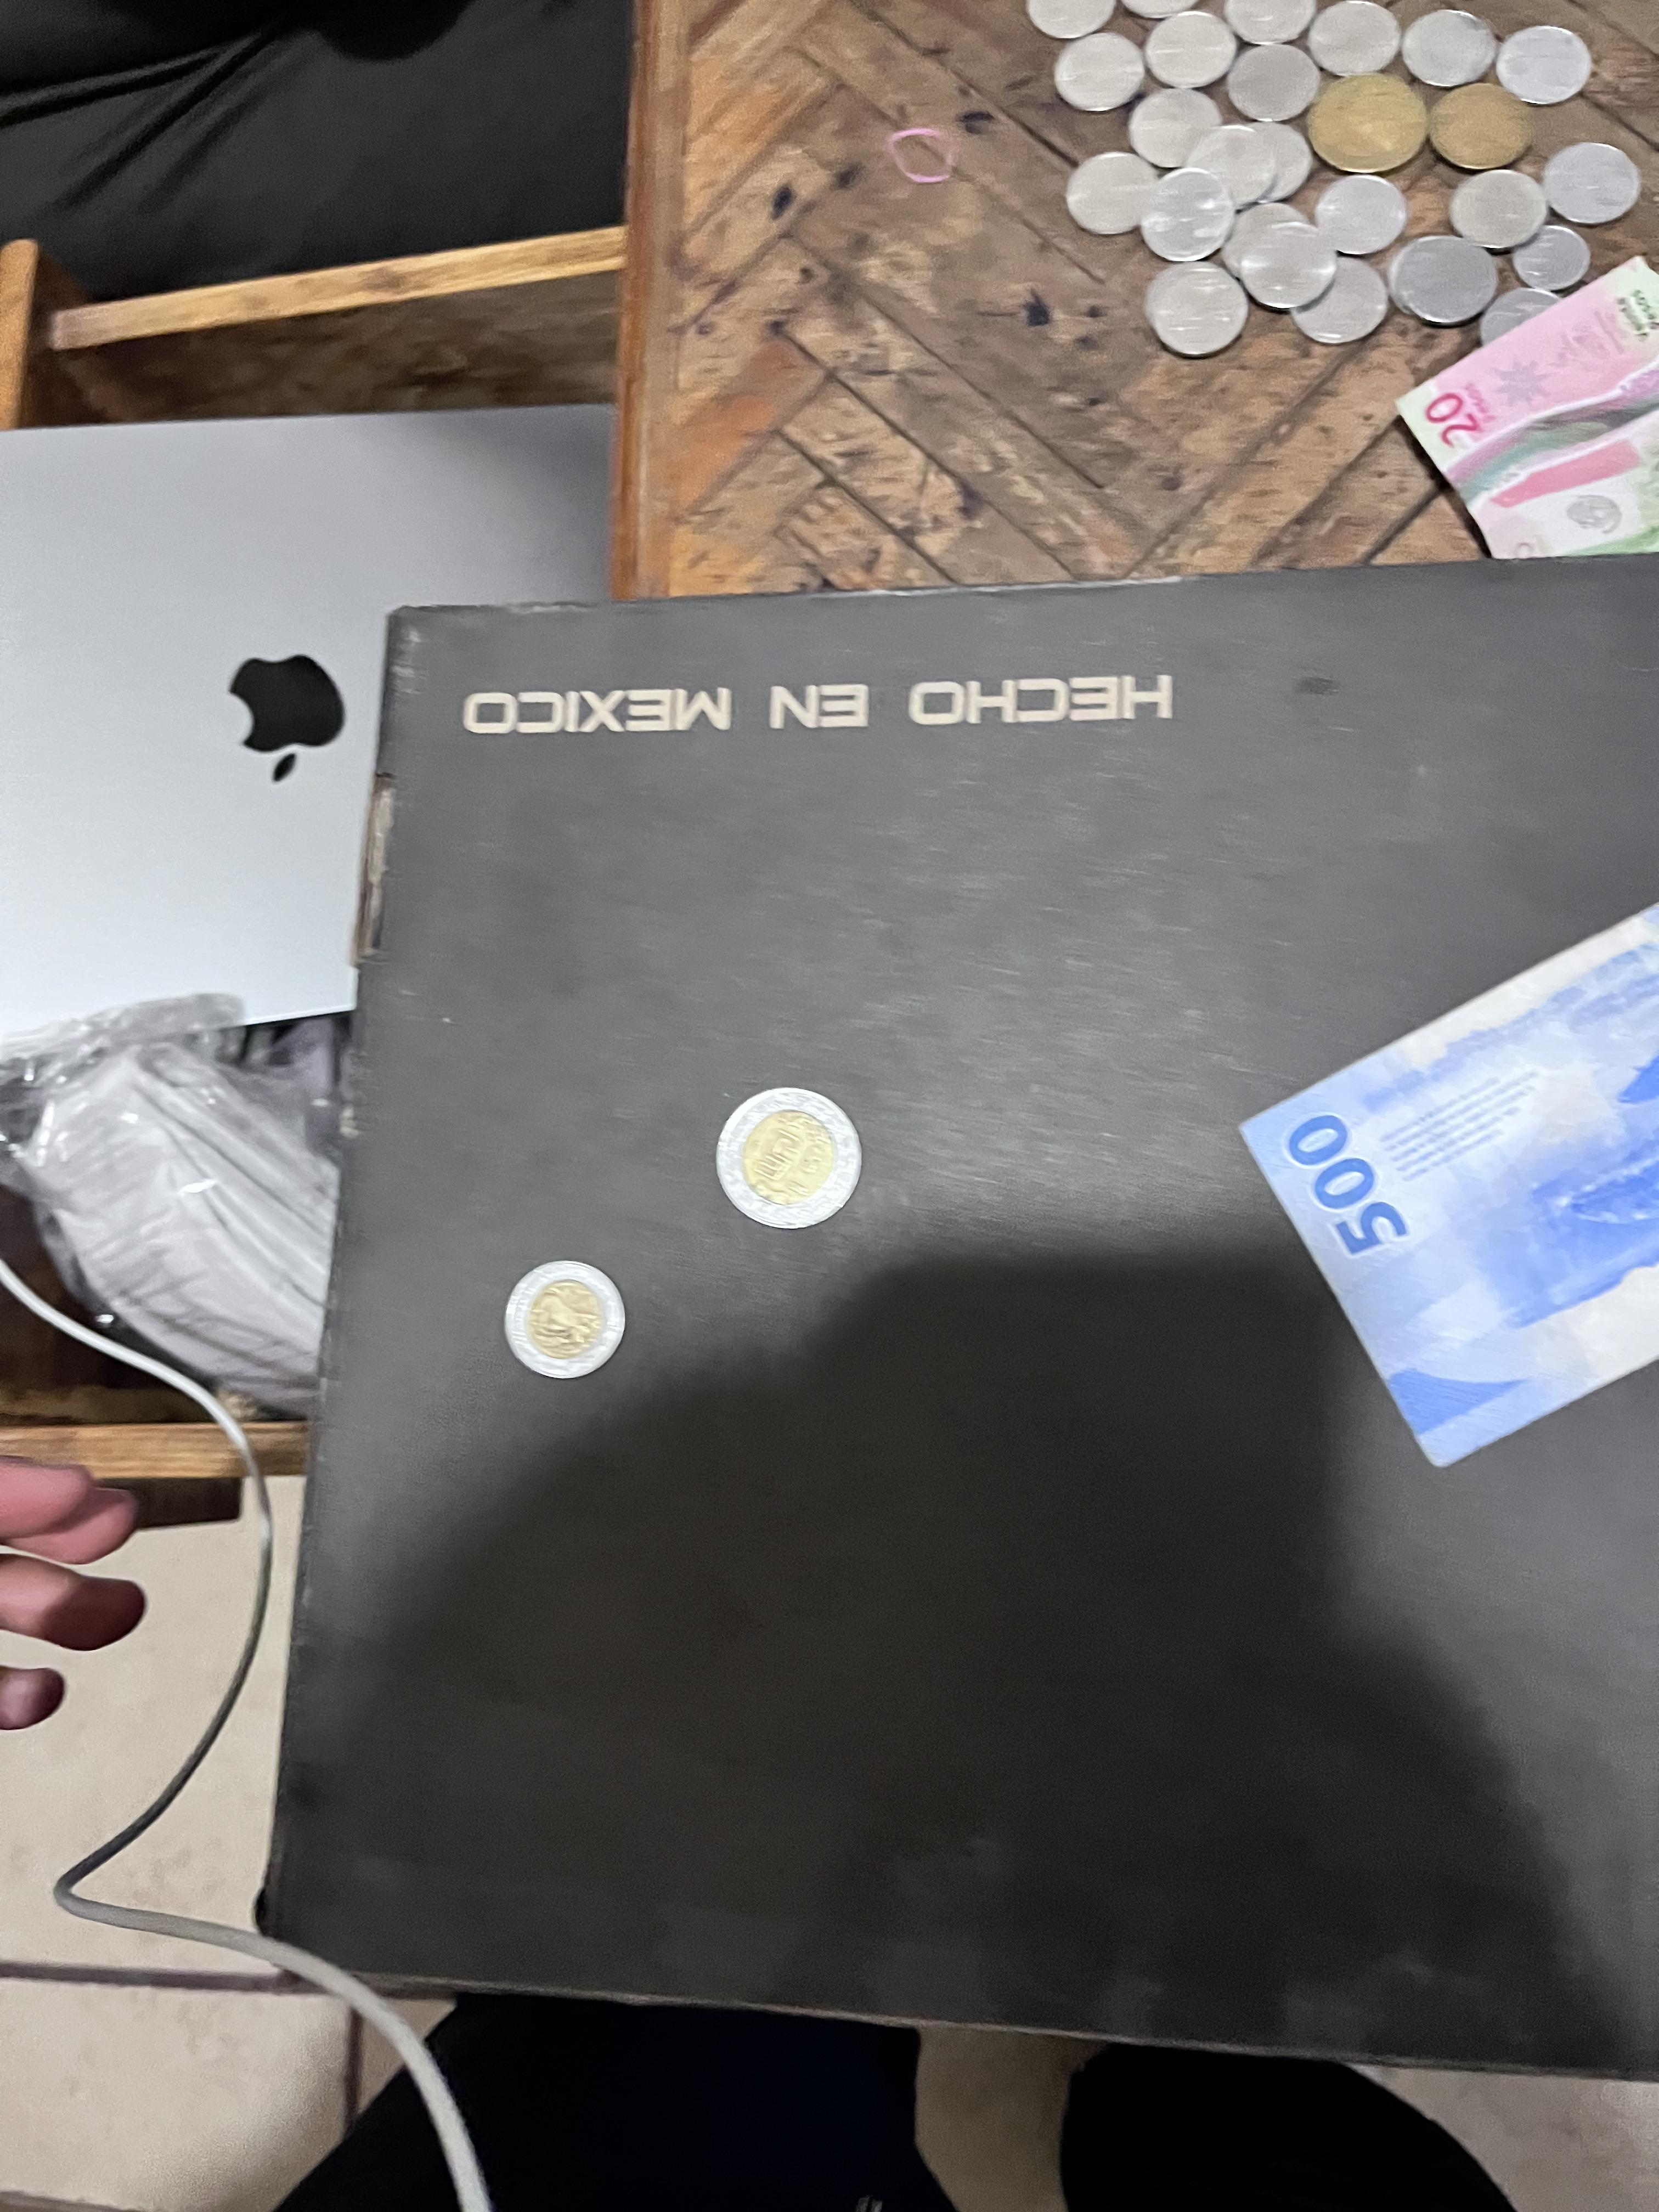1: (488, 1245, 646, 1397)
20: (1384, 247, 1659, 569)
5: (699, 1082, 874, 1241)
500 nuevo: (1226, 850, 1659, 1484)
